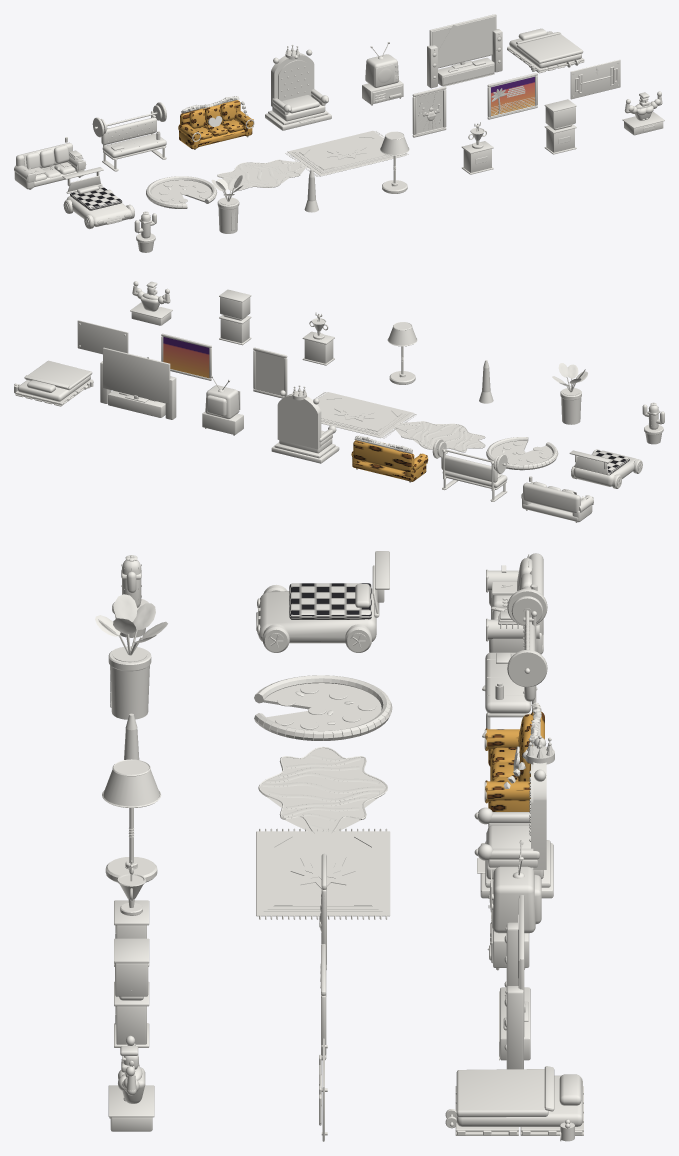
Rendered from Props_Furniture.fbx.
3 views of the same model, one above another, from view 1: azimuth 30°, elevation 25°; view 2: azimuth 150°, elevation 25°; view 3: azimuth 270°, elevation 25° (orthographic). The views are drawn at different scales.
Visible parts, largest first — view 1: Furniture_LeopardSofa__Tex, Furniture_GiantScreen__Neon_3a6ad8, Furniture_GoldRug__Carpet_a8262c, Furniture_BenchSofa__Leather_232328, Furniture_GiantScreen__SmoothPlastic_1c1c20, Furniture_ThroneSofa__Fabric_b02a30, Furniture_ThroneSofa__Foil_e6b83a, Furniture_SaggyCouch__Fabric_8c5e3c, Furniture_NeonDumbbell__Glass_1a1a26, Furniture_Mattress__Fabric_3c6ec8, Furniture_ZebraRug__Carpet_f2e2bc, Furniture_SunsetPoster__Tex (+27 smaller); view 2: Furniture_GiantScreen__SmoothPlastic_1c1c20, Furniture_ThroneSofa__Foil_e6b83a, Furniture_LeopardSofa__Tex, Furniture_GoldRug__Carpet_a8262c, Furniture_SaggyCouch__Fabric_8c5e3c, Furniture_SunsetPoster__Tex, Furniture_NeonDumbbell__Glass_1a1a26, Furniture_BenchSofa__Leather_232328, Furniture_ZebraRug__Carpet_f2e2bc, Furniture_FlexPoster__SmoothPlastic_f6d24a, Furniture_ZebraRug__Fabric_1e1e22, Furniture_Mattress__Fabric_3c6ec8 (+22 smaller); view 3: Furniture_GoldRug__Carpet_a8262c, Furniture_ZebraRug__Carpet_f2e2bc, Furniture_Mattress__Fabric_3c6ec8, Furniture_ThroneSofa__Foil_e6b83a, Furniture_GiantScreen__SmoothPlastic_1c1c20, Furniture_ZebraRug__Fabric_1e1e22, Furniture_LeopardSofa__Tex, Furniture_RaceCarBed__SmoothPlastic_e0281e, Furniture_PizzaRug__Fabric_f6d050, Furniture_PizzaRug__Fabric_e09a48, Furniture_GoldRug__Carpet_e2b43c, Furniture_TubeTv__SmoothPlastic_d6c6a0 (+20 smaller).
Part boxes in pixels (x1,y1,x2,y2): Furniture_LeopardSofa__Tex: (178, 100, 253, 149); Furniture_GiantScreen__Neon_3a6ad8: (432, 16, 495, 67); Furniture_GoldRug__Carpet_a8262c: (287, 130, 406, 176); Furniture_BenchSofa__Leather_232328: (101, 117, 166, 158); Furniture_GiantScreen__SmoothPlastic_1c1c20: (427, 14, 502, 88); Furniture_ThroneSofa__Fabric_b02a30: (278, 60, 319, 123); Furniture_ThroneSofa__Foil_e6b83a: (271, 46, 328, 121); Furniture_SaggyCouch__Fabric_8c5e3c: (16, 142, 76, 187); Furniture_NeonDumbbell__Glass_1a1a26: (570, 59, 620, 99); Furniture_Mattress__Fabric_3c6ec8: (517, 34, 583, 63); Furniture_ZebraRug__Carpet_f2e2bc: (218, 160, 306, 189); Furniture_SunsetPoster__Tex: (491, 77, 534, 115); Furniture_GiantScreen__SmoothPlastic_1c1c20: (100, 347, 176, 419); Furniture_ThroneSofa__Foil_e6b83a: (277, 387, 336, 453); Furniture_LeopardSofa__Tex: (351, 440, 427, 481); Furniture_GoldRug__Carpet_a8262c: (318, 392, 414, 437); Furniture_SaggyCouch__Fabric_8c5e3c: (522, 481, 580, 521); Furniture_SunsetPoster__Tex: (163, 337, 209, 378); Furniture_NeonDumbbell__Glass_1a1a26: (77, 320, 128, 354); Furniture_BenchSofa__Leather_232328: (441, 455, 507, 487); Furniture_ZebraRug__Carpet_f2e2bc: (394, 421, 484, 451); Furniture_FlexPoster__SmoothPlastic_f6d24a: (255, 351, 284, 396); Furniture_ZebraRug__Fabric_1e1e22: (393, 421, 485, 452); Furniture_Mattress__Fabric_3c6ec8: (25, 360, 92, 390); Furniture_GoldRug__Carpet_a8262c: (256, 831, 390, 916); Furniture_ZebraRug__Carpet_f2e2bc: (260, 748, 385, 831); Furniture_Mattress__Fabric_3c6ec8: (456, 1069, 548, 1117); Furniture_ThroneSofa__Foil_e6b83a: (478, 737, 554, 879); Furniture_GiantScreen__SmoothPlastic_1c1c20: (500, 895, 530, 1069); Furniture_ZebraRug__Fabric_1e1e22: (258, 746, 387, 833); Furniture_LeopardSofa__Tex: (485, 711, 544, 811); Furniture_RaceCarBed__SmoothPlastic_e0281e: (258, 551, 389, 643); Furniture_PizzaRug__Fabric_f6d050: (263, 683, 381, 730); Furniture_PizzaRug__Fabric_e09a48: (254, 675, 392, 740); Furniture_GoldRug__Carpet_e2b43c: (259, 828, 387, 919); Furniture_TubeTv__SmoothPlastic_d6c6a0: (492, 866, 541, 933).
Size of the model in its own units: 66.82 by 7.76 by 25.52.
